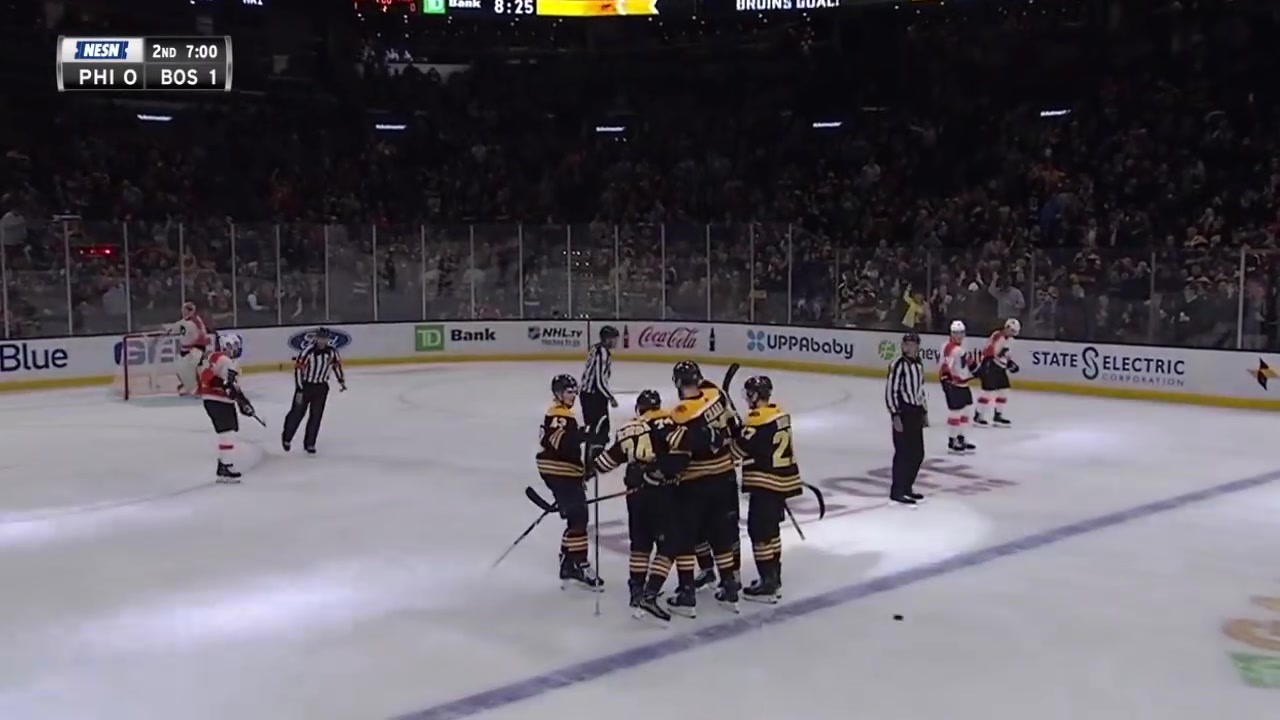Geico: (116, 331, 177, 374)
